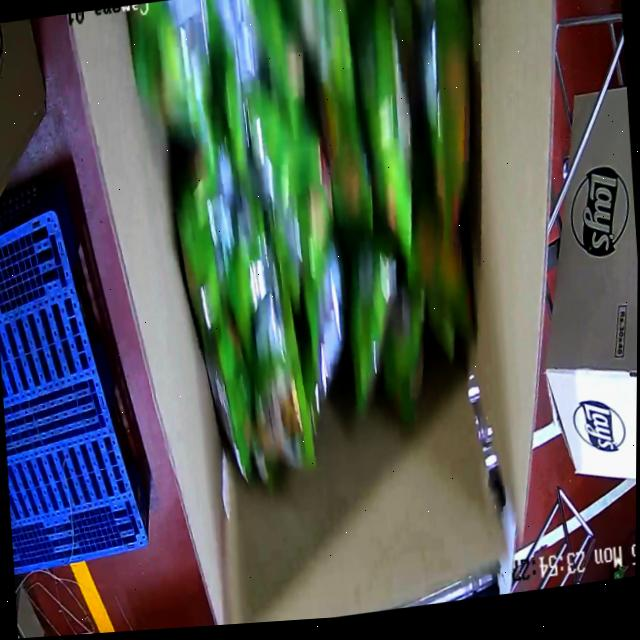YOGURT_HERB: (144, 0, 495, 460)
